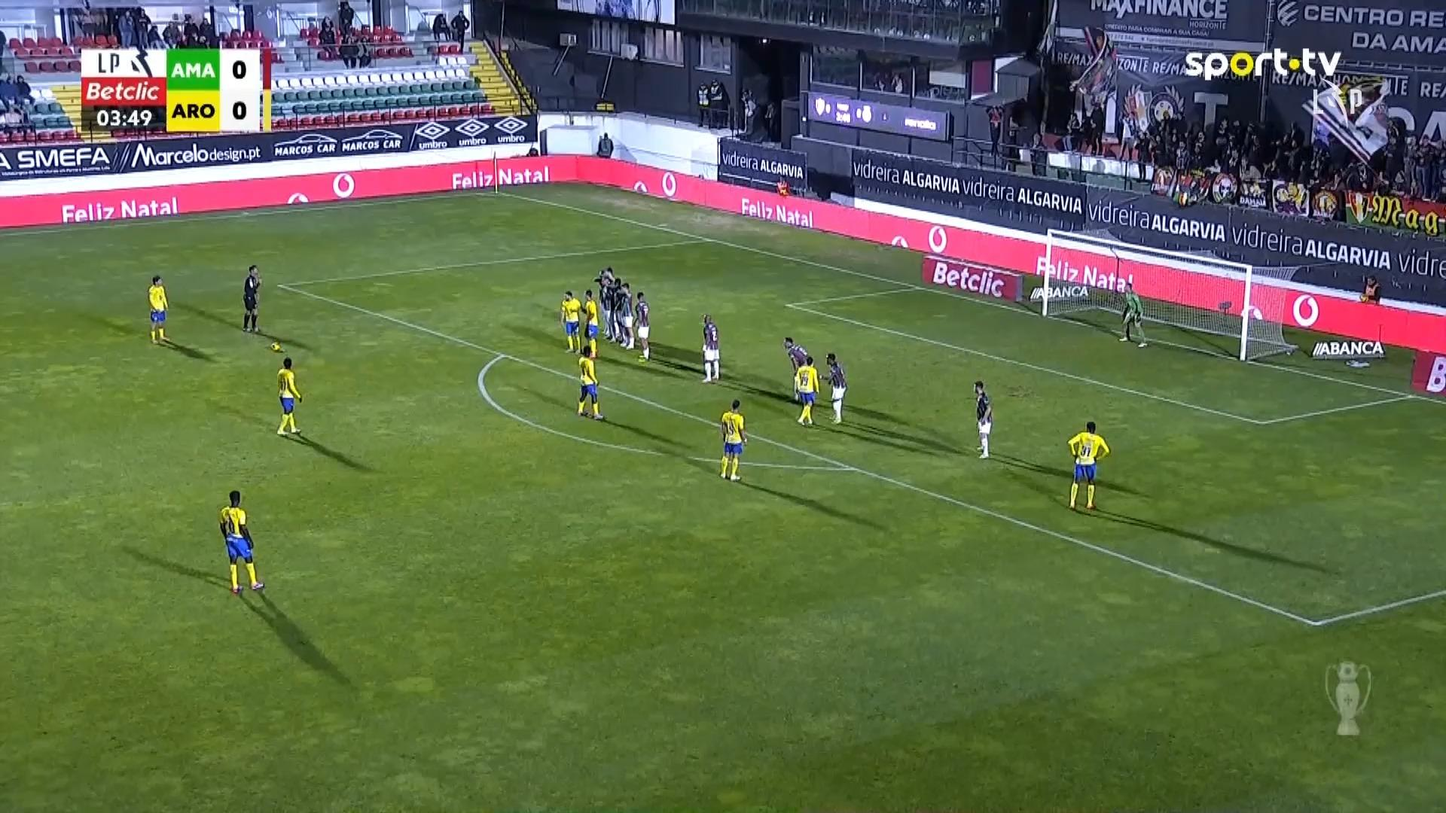ball: (1358, 126, 1372, 139), (270, 341, 282, 352)
goalkeeper: (1118, 284, 1147, 347)
player: (218, 489, 264, 595), (1066, 420, 1110, 510), (718, 399, 747, 481), (276, 356, 303, 435), (575, 344, 603, 420), (793, 355, 819, 427), (823, 352, 847, 424), (782, 336, 809, 400), (972, 380, 993, 458), (612, 280, 635, 349), (699, 312, 721, 383), (147, 275, 169, 344), (558, 290, 581, 353), (580, 288, 600, 358), (633, 291, 651, 362), (594, 266, 612, 336)
referee: (241, 264, 261, 333)
